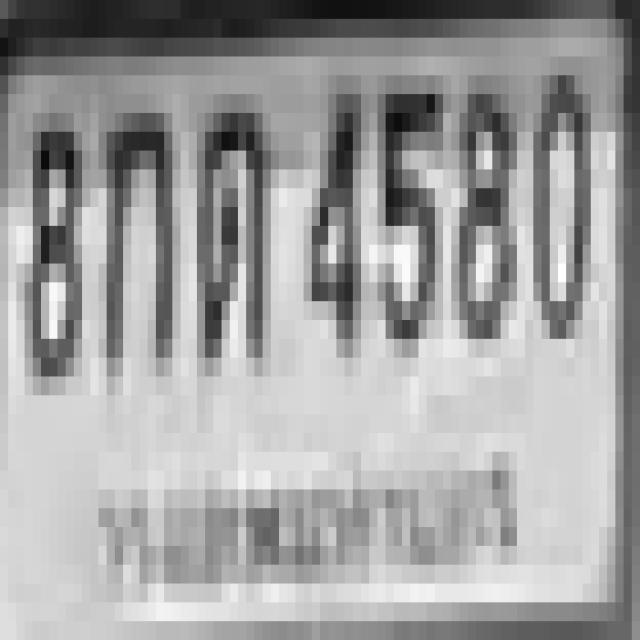0: (525, 75, 583, 320)
10GorGai: (90, 76, 181, 377)
29DorDek: (180, 94, 271, 358)
4: (295, 75, 361, 339)
5: (369, 94, 435, 339)
8: (16, 113, 90, 395), (443, 94, 509, 339)
